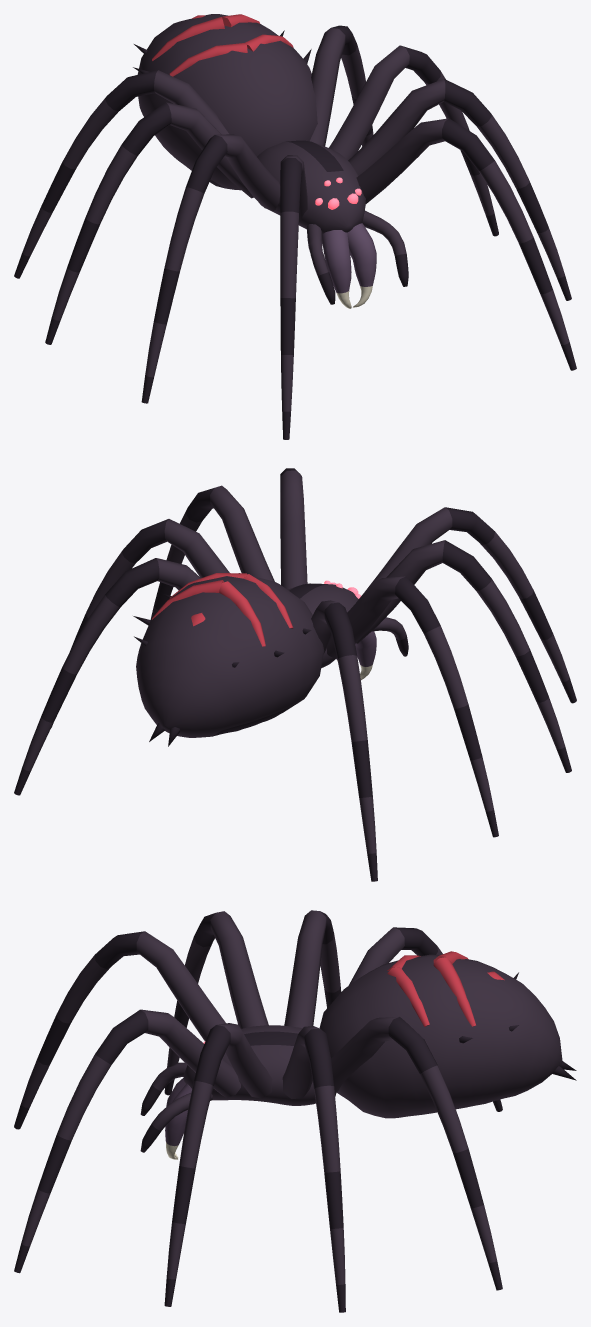
Rendered from spider.glb.
3 views of the same model, one above another, from view 1: azimuth 30°, elevation 25°; view 2: azimuth 150°, elevation 25°; view 3: azimuth 270°, elevation 25° (orthographic). The views are drawn at different scales.
Visible parts, largest first — view 1: AbdomenMesh, Leg0L_Mesh, Leg1L_Mesh, Leg1R_Mesh, Leg2R_Mesh, Leg3R_Mesh, Ceph, Leg2L_Mesh, Leg0R_Mesh, Leg3L_Mesh, CheliceraR, CheliceraL (+4 smaller); view 2: AbdomenMesh, Leg2R_Mesh, Leg1R_Mesh, Leg3L_Mesh, Leg0R_Mesh, Leg3R_Mesh, Leg1L_Mesh, Leg2L_Mesh, Leg0L_Mesh, Ceph, Mark1R, CheliceraR (+2 smaller); view 3: AbdomenMesh, Leg0L_Mesh, Leg0R_Mesh, Leg3L_Mesh, Leg1L_Mesh, Leg2L_Mesh, Leg1R_Mesh, Leg2R_Mesh, Ceph, Leg3R_Mesh, PalpL, Mark1L (+3 smaller).
Boxes of the visible parts, x1,y1,x2,y2 form: AbdomenMesh: [137, 14, 317, 190]; Leg0L_Mesh: [356, 118, 576, 370]; Leg1L_Mesh: [348, 79, 571, 300]; Leg1R_Mesh: [141, 134, 280, 403]; Leg2R_Mesh: [45, 102, 253, 344]; Leg3R_Mesh: [14, 70, 228, 278]; Ceph: [257, 140, 365, 234]; Leg2L_Mesh: [329, 45, 498, 236]; Leg0R_Mesh: [280, 155, 307, 439]; Leg3L_Mesh: [310, 25, 373, 146]; CheliceraR: [322, 230, 351, 308]; CheliceraL: [347, 223, 376, 307]; AbdomenMesh: [136, 573, 324, 737]; Leg2R_Mesh: [327, 576, 498, 837]; Leg1R_Mesh: [356, 540, 571, 772]; Leg3L_Mesh: [14, 558, 200, 795]; Leg0R_Mesh: [357, 507, 576, 703]; Leg3R_Mesh: [311, 600, 377, 881]; Leg1L_Mesh: [150, 485, 274, 619]; Leg2L_Mesh: [51, 519, 229, 727]; Leg0L_Mesh: [280, 468, 307, 589]; Ceph: [288, 583, 358, 667]; Mark1R: [219, 581, 265, 646]; CheliceraR: [355, 631, 376, 679]; AbdomenMesh: [319, 954, 562, 1118]; Leg0L_Mesh: [14, 1009, 240, 1273]; Leg0R_Mesh: [14, 931, 225, 1129]; Leg3L_Mesh: [331, 1016, 502, 1290]; Leg1L_Mesh: [164, 1023, 272, 1306]; Leg2L_Mesh: [282, 1026, 345, 1312]; Leg1R_Mesh: [164, 911, 268, 1095]; Leg2R_Mesh: [284, 910, 341, 1028]; Ceph: [183, 1025, 336, 1105]; Leg3R_Mesh: [348, 927, 502, 1111]; PalpL: [140, 1093, 212, 1152]; Mark1L: [433, 957, 476, 1026].
Bounding box in the file's own units: 1.87 × 0.9349 × 1.96.
